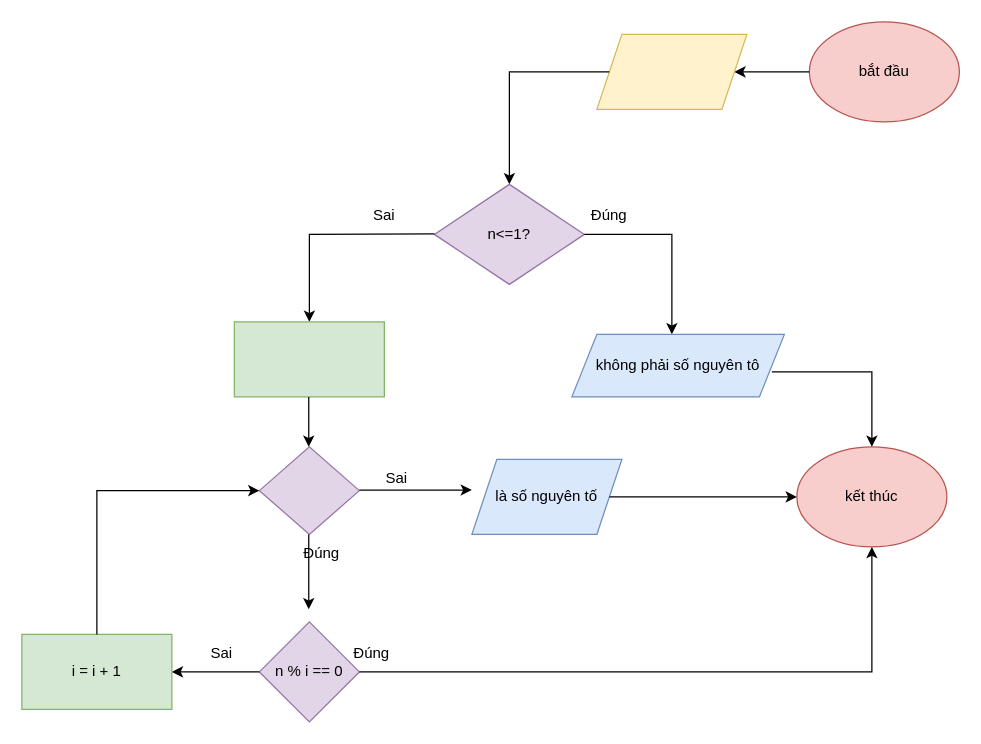
The diagram is 981 pixels wide and 744 high, and some of its shapes have lost their labels. The shapes that lost their labels are listed below. From the top down, each one's centre as x and y in pixels, then its label:
At point 671,71: "nhập n".
At point 308,359: "i==2".
At point 308,490: "i x i <= n?".
